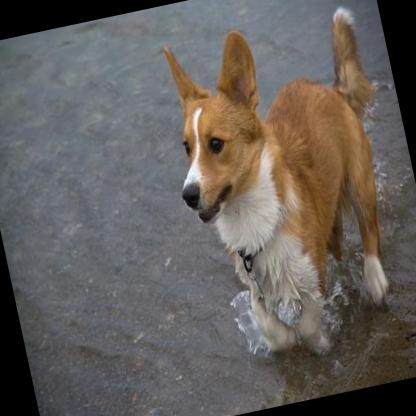Cardigan: (147, 0, 416, 380)
